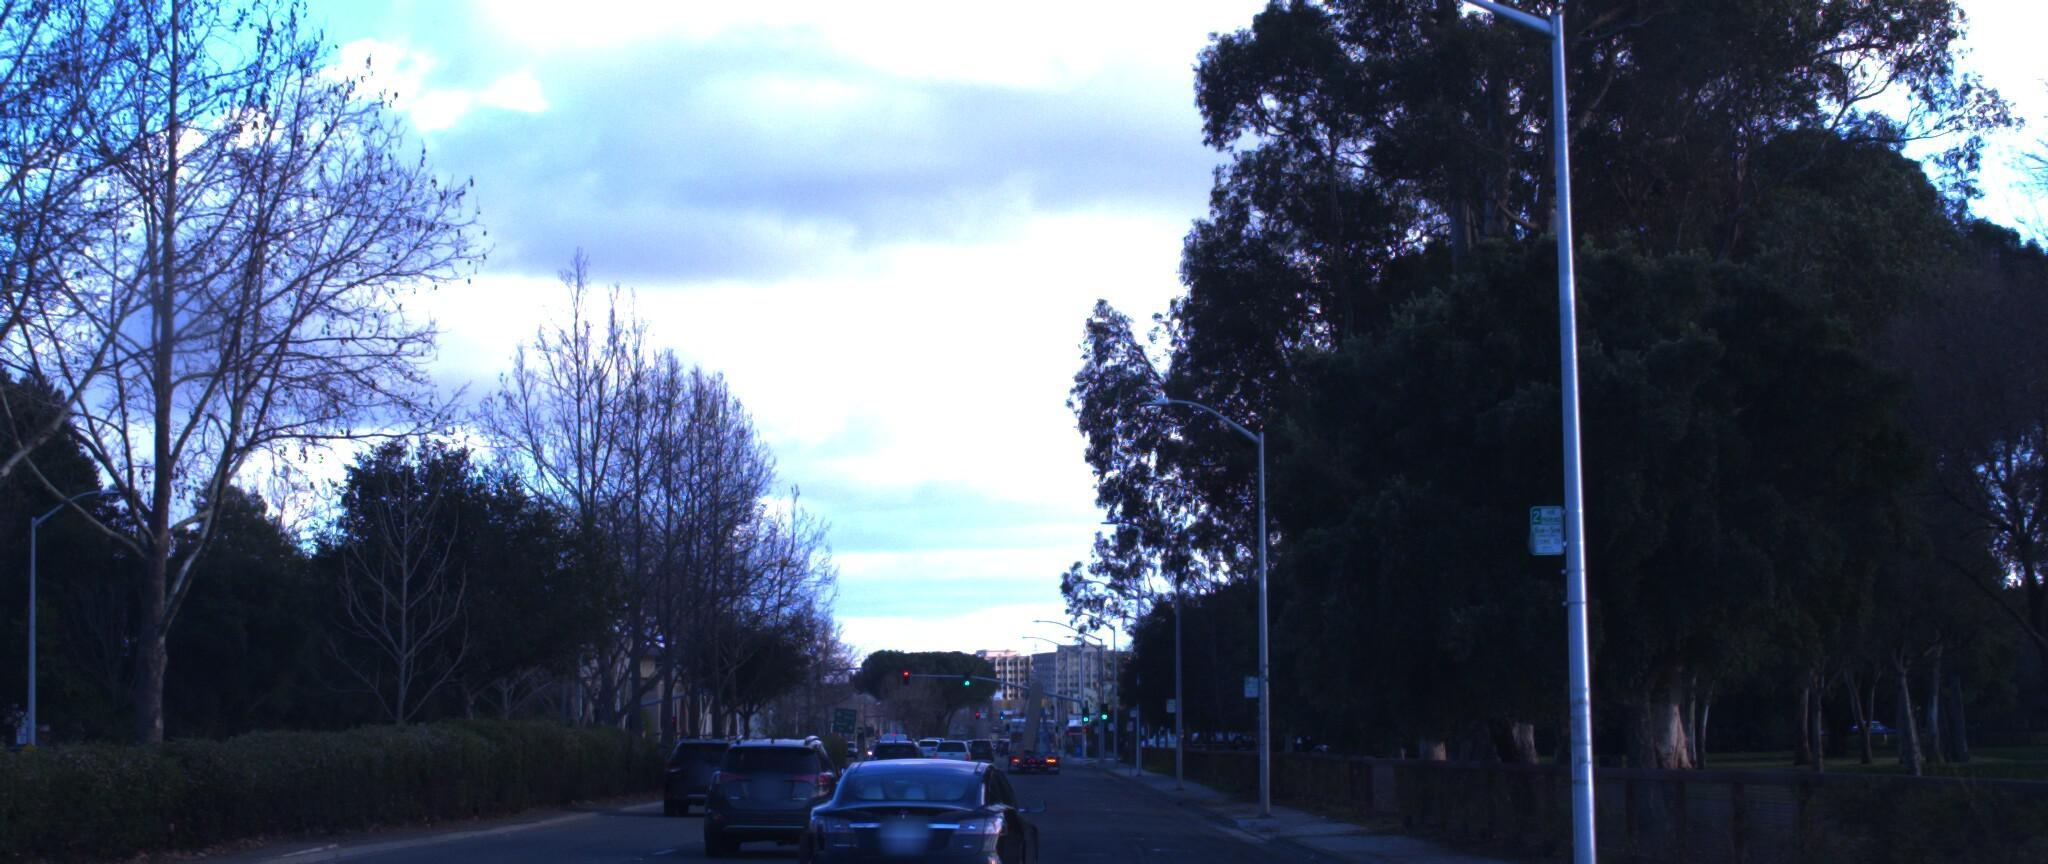car: (792, 737, 1034, 864), (707, 718, 858, 844), (670, 722, 773, 796)
